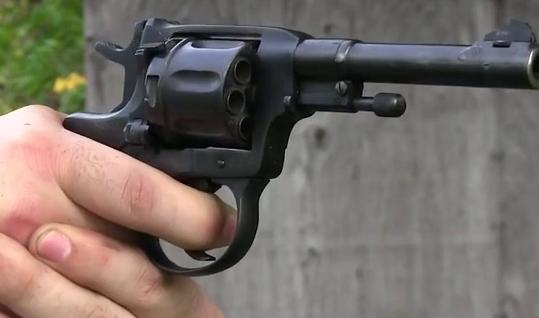gun: (1, 1, 539, 318)
